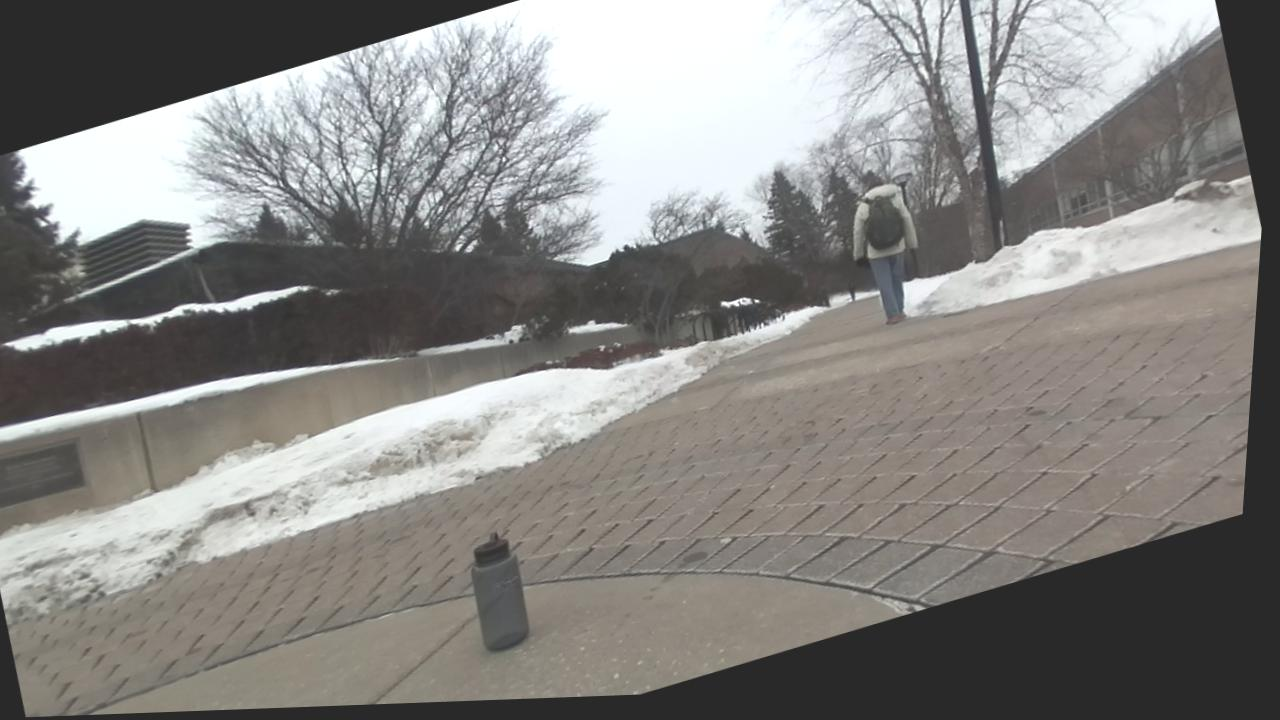bottle: (471, 532, 529, 650)
